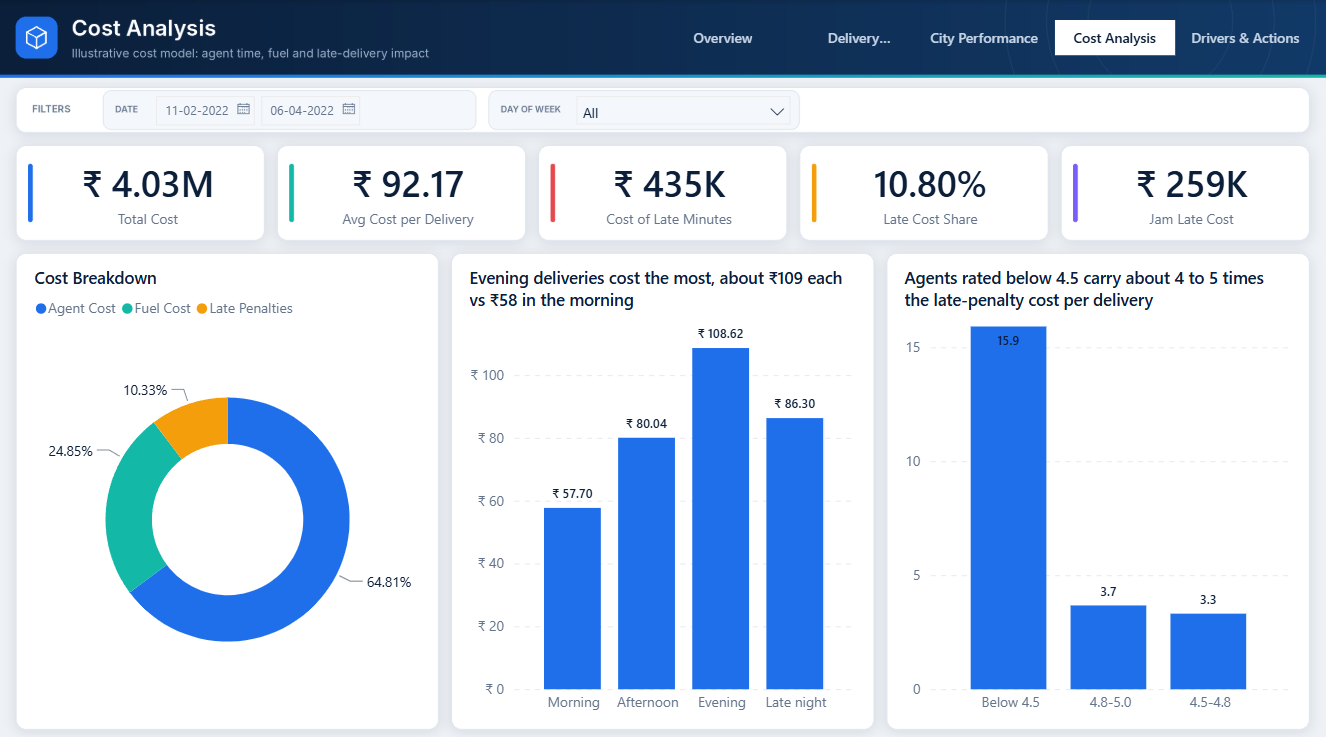

The page's visual inventory and layout, read from the dashboard file:
{"tool":"powerbi","page":{"name":"Cost Analysis","canvas":[1280,720],"ordinal":3},"visuals":[{"type":"card","fields":{"Values":["vw_delivery_analysis.Total Cost"]},"box":[38,144,210,84],"z":1000},{"type":"card","fields":{"Values":["vw_delivery_analysis.Avg Cost per Delivery"]},"box":[290,144,210,84],"z":2000},{"type":"card","fields":{"Values":["vw_delivery_analysis.Cost of Late Minutes"]},"box":[542,144,210,84],"z":3000},{"type":"card","fields":{"Values":["vw_delivery_analysis.Late Cost Share"]},"box":[794,144,210,84],"z":4000},{"type":"card","fields":{"Values":["vw_delivery_analysis.Jam Late Cost"]},"box":[1046,144,210,84],"z":5000},{"type":"donutChart","title":"Cost Breakdown","fields":{"Y":["Sum(vw_delivery_analysis.asm_agent_time_cost_inr)","Sum(vw_delivery_analysis.asm_fuel_cost_inr)","Sum(vw_delivery_analysis.asm_cost_of_late_minutes_inr)"]},"box":[24,250,392,448],"z":6000},{"type":"clusteredColumnChart","title":"Evening deliveries cost the most, about ₹109 each vs ₹58 in the morning","fields":{"Y":["vw_delivery_analysis.Avg Cost per Delivery"],"Category":["vw_delivery_analysis.time_of_day"]},"box":[444,250,392,448],"z":7000},{"type":"columnChart","title":"Agents rated below 4.5 carry about 4 to 5 times the late-penalty cost per delivery","fields":{"Category":["vw_delivery_analysis.agent_rating_band"],"Y":["Avg(vw_delivery_analysis.asm_late_penalty_inr)"]},"box":[864,250,392,448],"z":8000},{"type":"slicer","fields":{"Values":["vw_delivery_analysis.order_date"]},"box":[144,88,312,36],"z":9000},{"type":"slicer","fields":{"Values":["vw_delivery_analysis.day_of_week"]},"box":[552,88,216,36],"z":10000},{"type":"pageNavigator","box":[640,19,624,34],"z":11000}]}

Visuals, with their boxes in screenshot pixels (x1, y1, x2, y2), scaled from the page's 1280x720 canvas onto the 1326x737 screenshot:
card - vw_delivery_analysis.Total Cost: l=39, t=147, r=257, b=233
card - vw_delivery_analysis.Avg Cost per Delivery: l=300, t=147, r=518, b=233
card - vw_delivery_analysis.Cost of Late Minutes: l=561, t=147, r=779, b=233
card - vw_delivery_analysis.Late Cost Share: l=823, t=147, r=1040, b=233
card - vw_delivery_analysis.Jam Late Cost: l=1084, t=147, r=1301, b=233
"Cost Breakdown" donutChart: l=25, t=256, r=431, b=714
"Evening deliveries cost the most, about ₹109 each vs ₹58 in the morning" clusteredColumnChart: l=460, t=256, r=866, b=714
"Agents rated below 4.5 carry about 4 to 5 times the late-penalty cost per delivery" columnChart: l=895, t=256, r=1301, b=714
slicer - vw_delivery_analysis.order_date: l=149, t=90, r=472, b=127
slicer - vw_delivery_analysis.day_of_week: l=572, t=90, r=796, b=127
pageNavigator: l=663, t=19, r=1309, b=54
